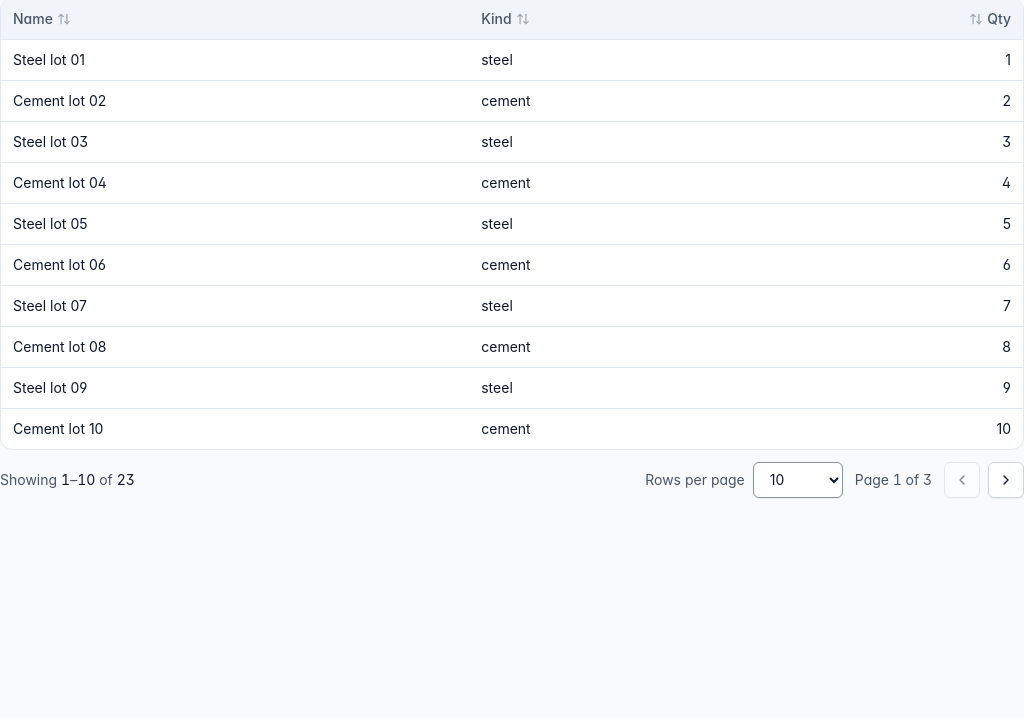
Scenario: DataTable › changes page size and goes back to page 1
Step 1. Click the button named "Next page" → coordinates (1006, 480), box [988, 462, 1023, 498]
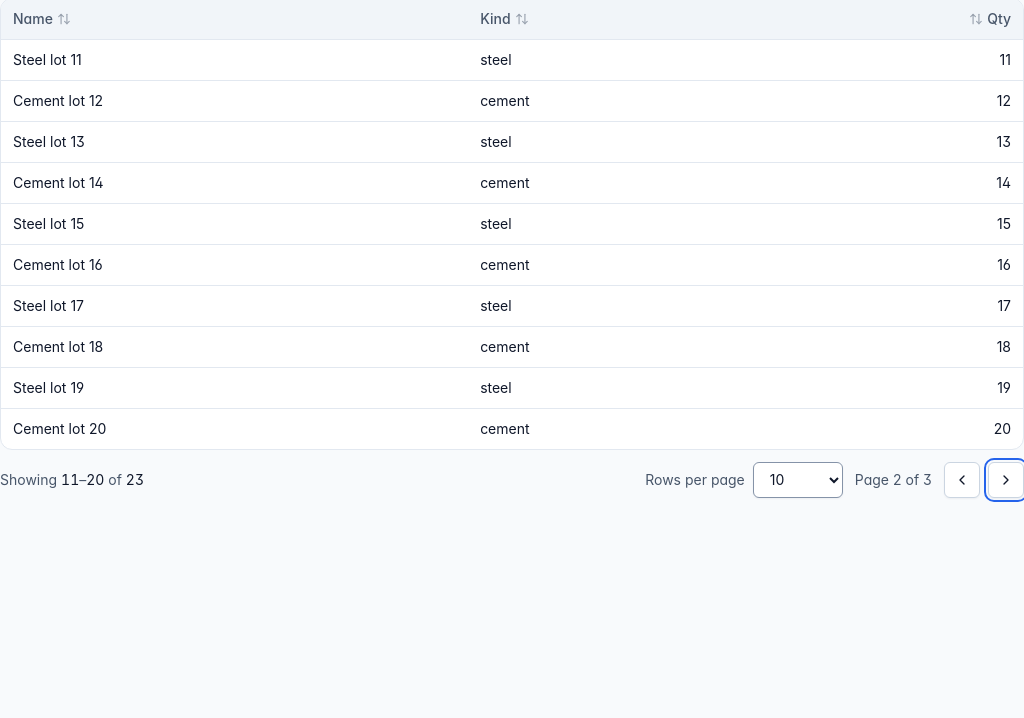
Step 2. Select "25" in the dropdown labelled "Rows per page" → coordinates (798, 480), box [753, 462, 843, 498]
(page scrolled)
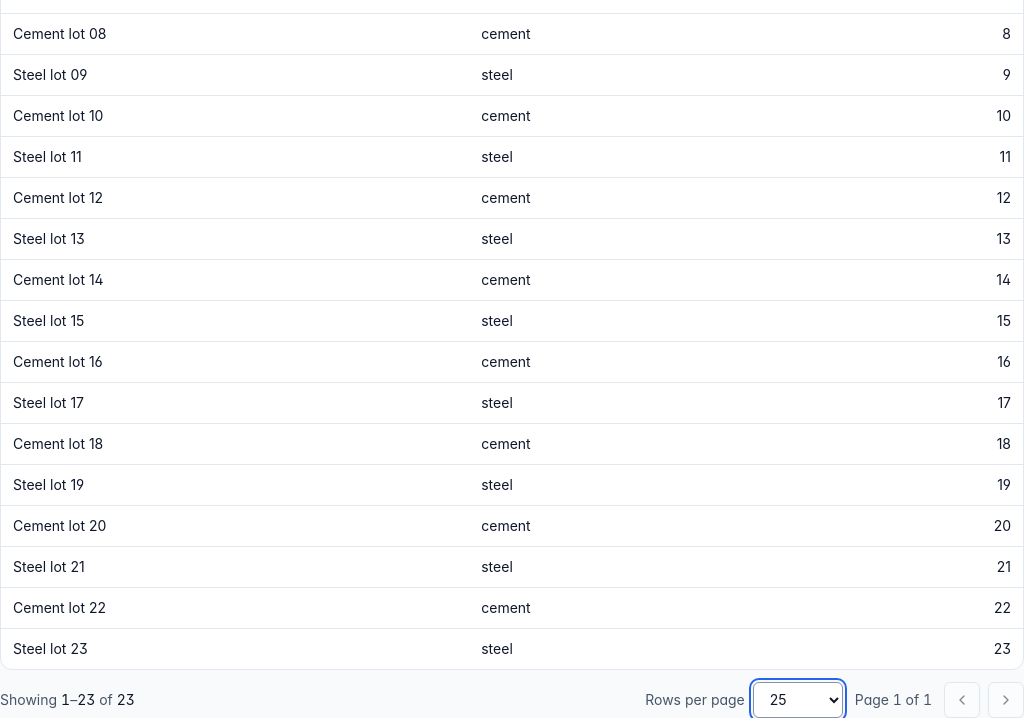
Now the text "Page 1 of 1" is shown, box [851, 690, 936, 710]
